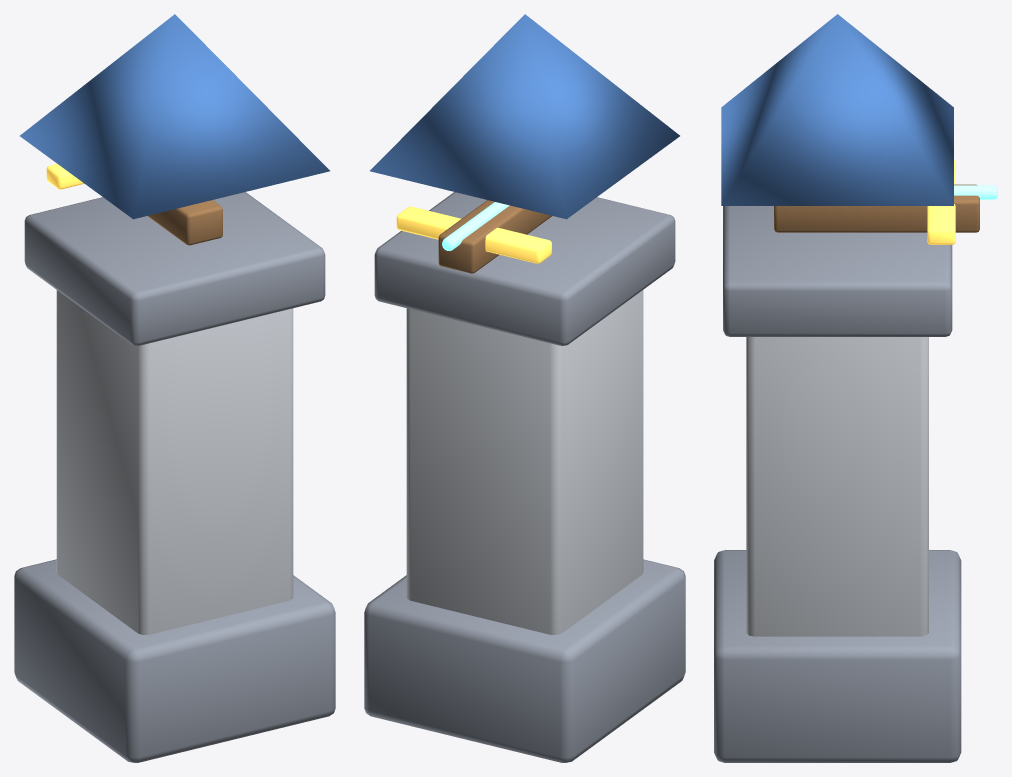
File: bldg_archer_tower.glb
The picture shows the model from 3 angles, left to right: view 1: azimuth 30°, elevation 25°; view 2: azimuth 150°, elevation 25°; view 3: azimuth 270°, elevation 25°; orthographic projection. The views are drawn at different scales.
Visible parts, largest first — view 1: StaticBody, Anim_Turret; view 2: StaticBody, Anim_Turret; view 3: StaticBody, Anim_Turret.
Boxes of the visible parts, box(x1,y1,x2,y2) form: StaticBody: box(14, 14, 335, 762); Anim_Turret: box(46, 164, 222, 245); StaticBody: box(364, 14, 685, 762); Anim_Turret: box(396, 200, 551, 273); StaticBody: box(714, 14, 961, 762); Anim_Turret: box(774, 160, 997, 244).
Bounding box in the file's own units: 1.38 × 4.32 × 1.58.
